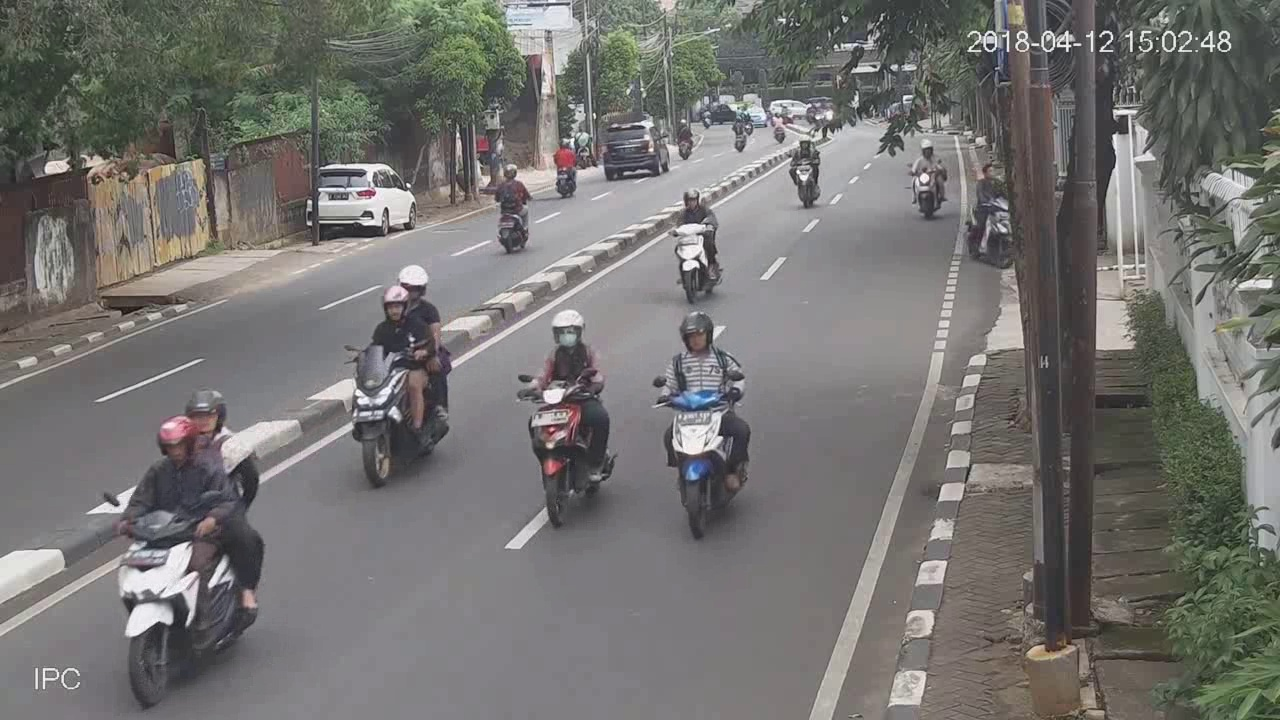car: (304, 161, 420, 235), (601, 116, 668, 180)
motorcycle: (99, 388, 270, 707), (341, 261, 462, 485), (647, 307, 754, 541), (515, 304, 620, 530), (664, 182, 726, 301), (972, 155, 1015, 266), (493, 157, 537, 255), (908, 131, 950, 220), (789, 131, 827, 207), (551, 134, 582, 199)
